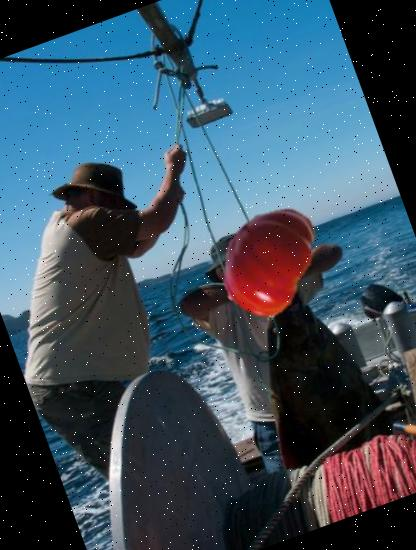Tomato: (199, 188, 345, 334)
